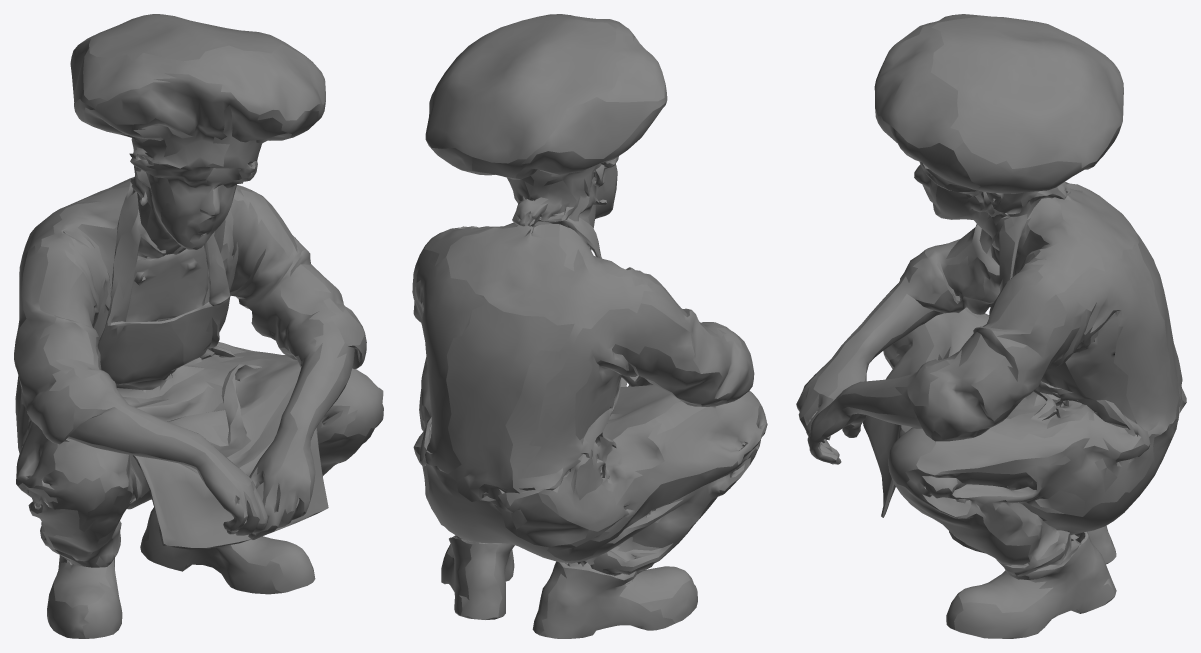
The model's file is completion_chef_1.glb.
The picture shows the model from 3 angles, left to right: view 1: azimuth 30°, elevation 25°; view 2: azimuth 150°, elevation 25°; view 3: azimuth 270°, elevation 25°; orthographic projection. The views are drawn at different scales.
Parts seen in each view (by area): view 1: geometry_0; view 2: geometry_0; view 3: geometry_0.
Part boxes in pixels (box(x1,y1,x2,y2)): geometry_0: box(14, 14, 383, 638); geometry_0: box(412, 14, 767, 638); geometry_0: box(796, 14, 1186, 638).
Bounding box in the file's own units: 0.6294 × 1 × 0.641.
Materials: 1 (1 with a texture image).
